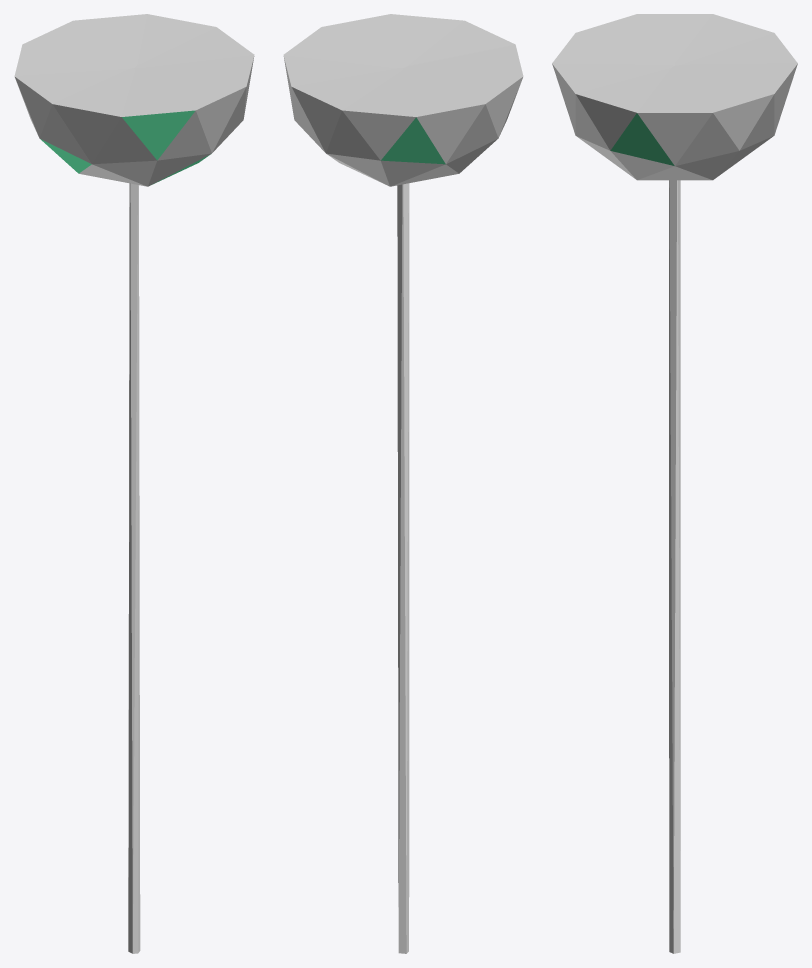
File: floaty01.fbx
The picture shows the model from 3 angles, left to right: view 1: azimuth 30°, elevation 25°; view 2: azimuth 150°, elevation 25°; view 3: azimuth 270°, elevation 25°; orthographic projection.
Visible parts, largest first — view 1: Icosphere, Cylinder.001; view 2: Icosphere, Cylinder.001; view 3: Icosphere, Cylinder.001.
Boxes of the visible parts, <box> form: Icosphere: <box>14,14,254,186</box>; Cylinder.001: <box>128,183,140,953</box>; Icosphere: <box>283,14,523,186</box>; Cylinder.001: <box>397,183,409,953</box>; Icosphere: <box>552,14,797,180</box>; Cylinder.001: <box>669,180,680,953</box>.
Bounding box in the file's own units: 526 × 2204 × 553.
